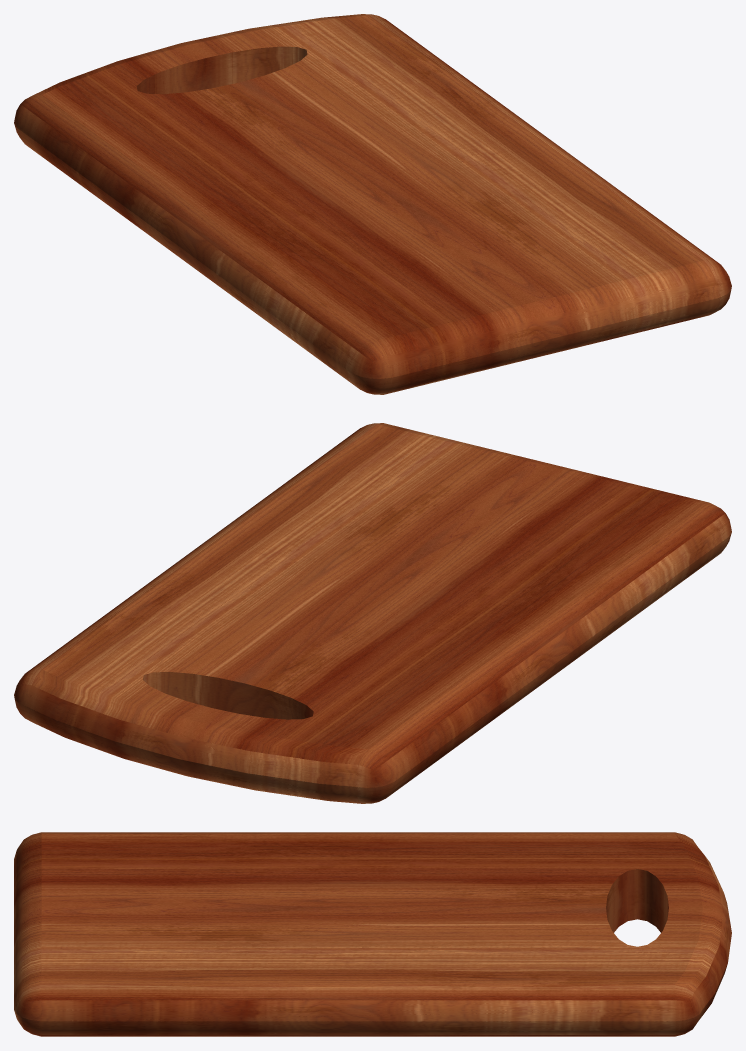
File: Chopping Board.fbx
3 views of the same model, one above another, from view 1: azimuth 30°, elevation 25°; view 2: azimuth 150°, elevation 25°; view 3: azimuth 270°, elevation 25° (orthographic). The views are drawn at different scales.
Parts seen in each view (by area): view 1: Box001; view 2: Box001; view 3: Box001.
Part boxes in pixels (x1,y1,x2,y2): Box001: [14, 14, 731, 394]; Box001: [14, 423, 731, 803]; Box001: [14, 832, 731, 1036].
Size of the model in its own units: 16.8 by 2.27 by 29.34.
Materials: 1 (1 with a texture image).
